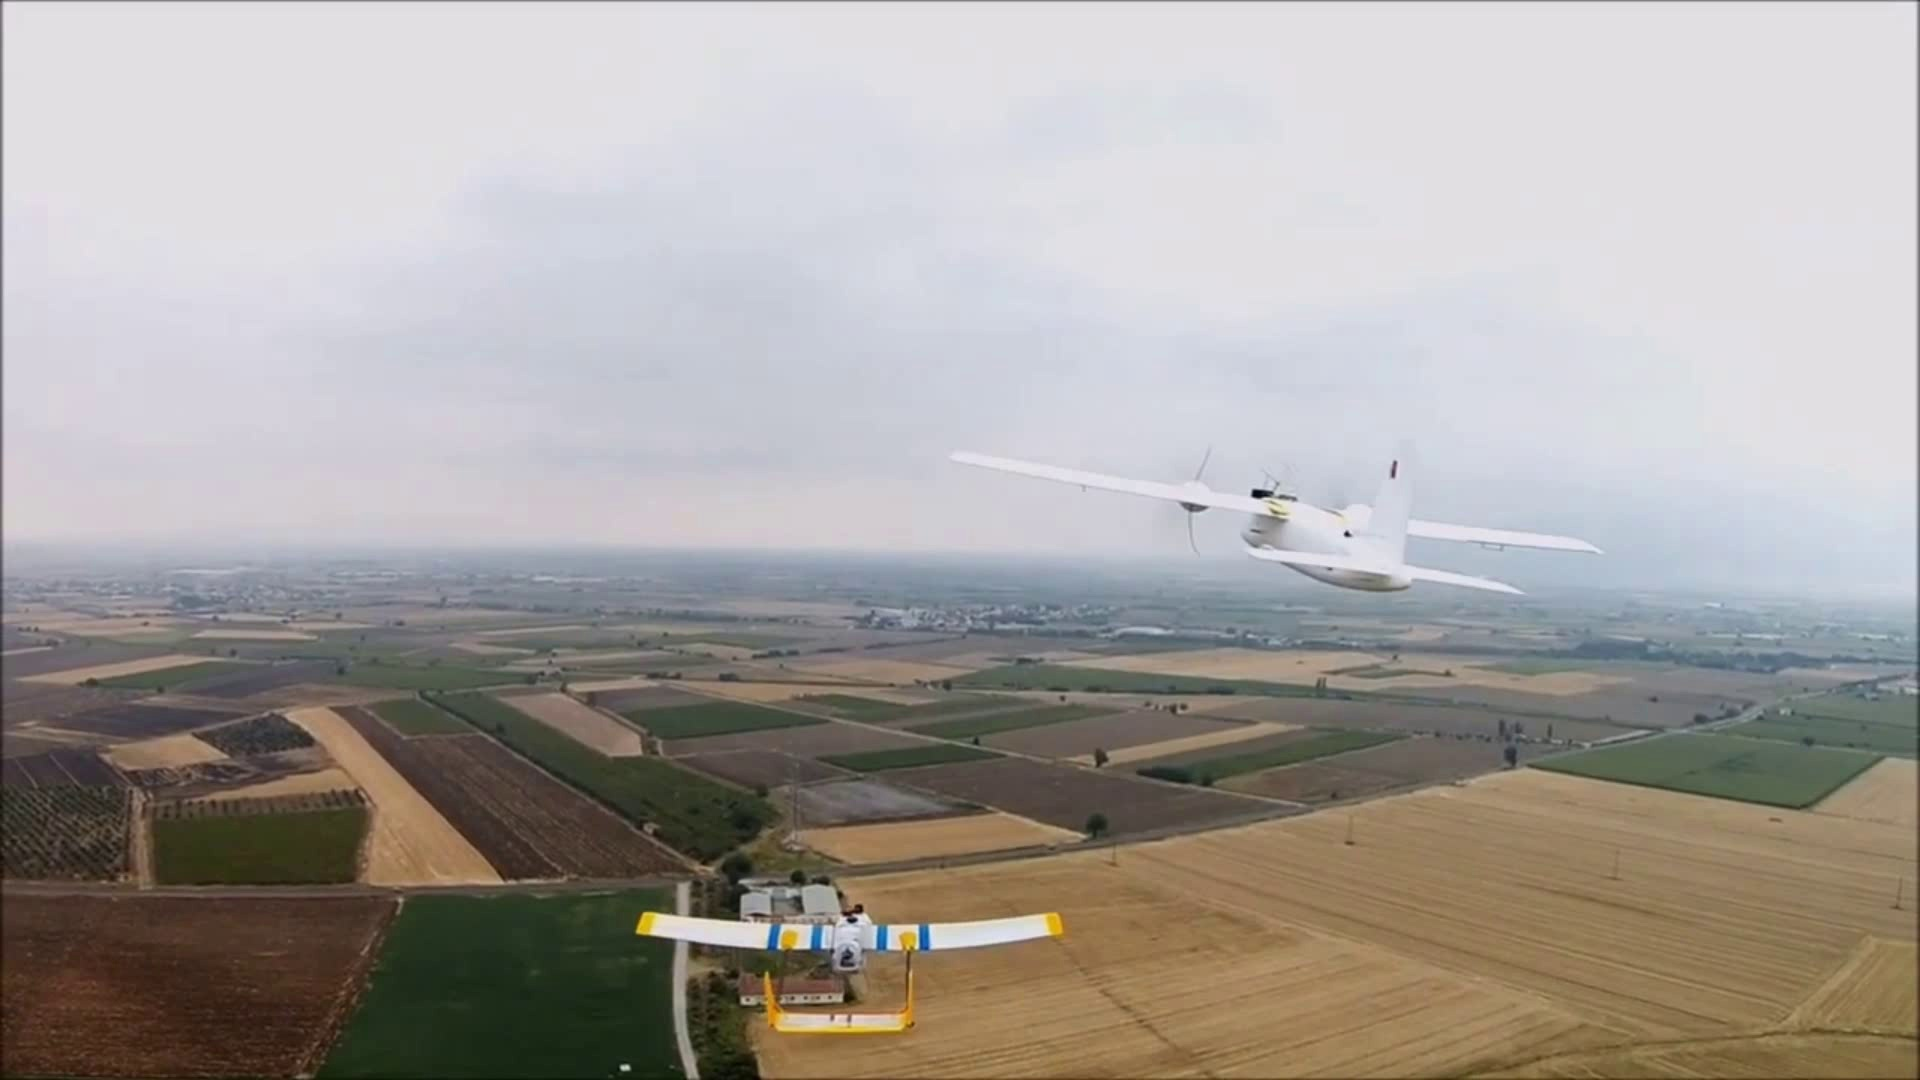airplane: (945, 440, 1604, 599)
